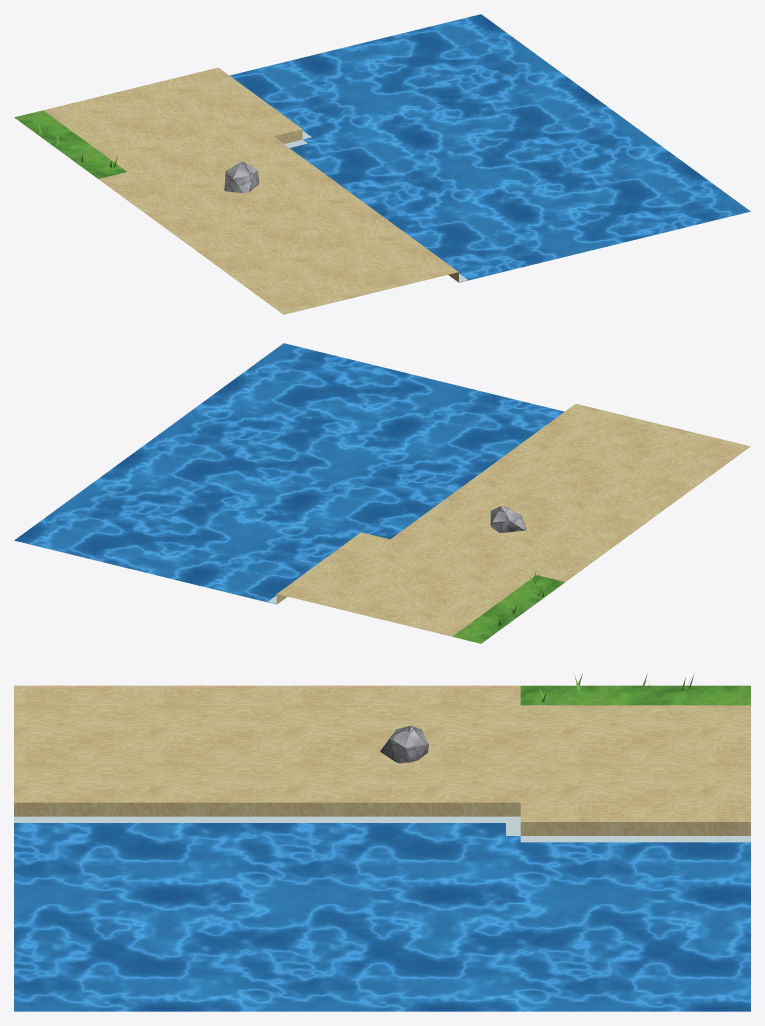
Rendered from chunk_11_13.glb.
3 views of the same model, one above another, from view 1: azimuth 30°, elevation 25°; view 2: azimuth 150°, elevation 25°; view 3: azimuth 270°, elevation 25° (orthographic). The views are drawn at different scales.
Parts seen in each view (by area): view 1: chunk_11_13; view 2: chunk_11_13; view 3: chunk_11_13.
Part boxes in pixels (left/top/right/bottom): chunk_11_13: left=14, top=14, right=750, bottom=314; chunk_11_13: left=14, top=343, right=750, bottom=643; chunk_11_13: left=14, top=673, right=750, bottom=1011.
Size of the model in its own units: 16.05 by 1.14 by 16.
6 materials, 4 textured.
